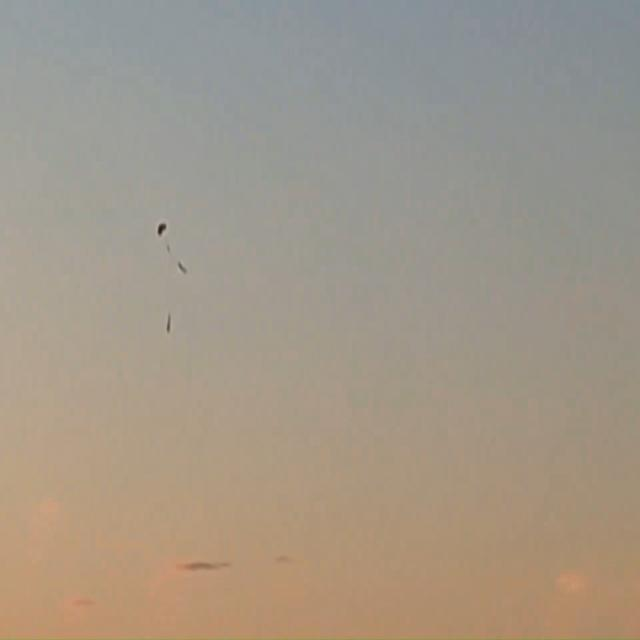Rocket: (166, 312, 171, 333)
